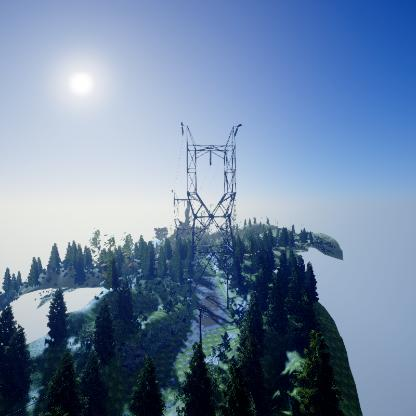tower: (179, 116, 245, 308)
